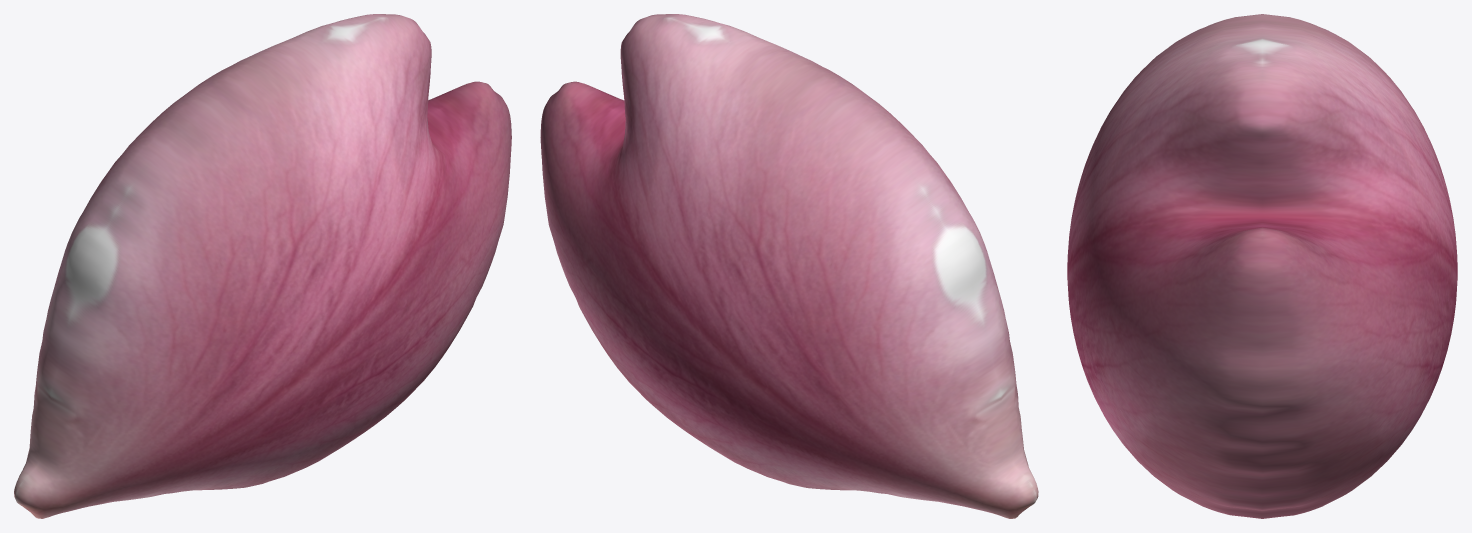
File: petal_pink.glb
3 renders of one model, left to right at view 1: azimuth 30°, elevation 25°; view 2: azimuth 150°, elevation 25°; view 3: azimuth 270°, elevation 25°, orthographic. The views are drawn at different scales.
Size of the model in its own units: 4.72 by 3.9 by 2.65.
Materials: 1 (1 with a texture image).
